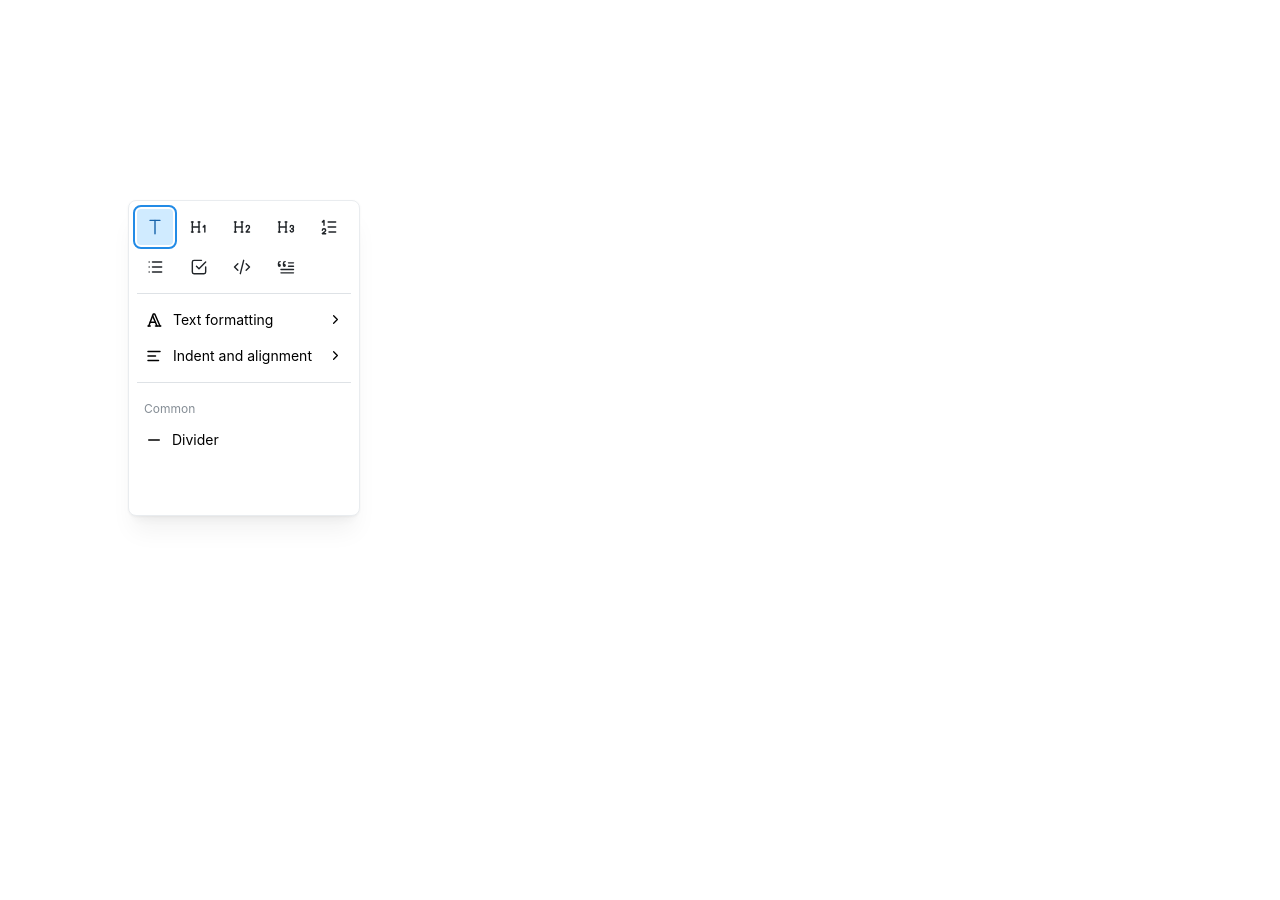
Test: paragraph menu lifecycle › keeps font and spacing controls behind a compact secondary panel
This screenshot has width=1280, height=900.
Expected: the dropdown labelled "Font size" is not shown
Click the button "Text formatting" at (244, 320), box [137,302,351,338]
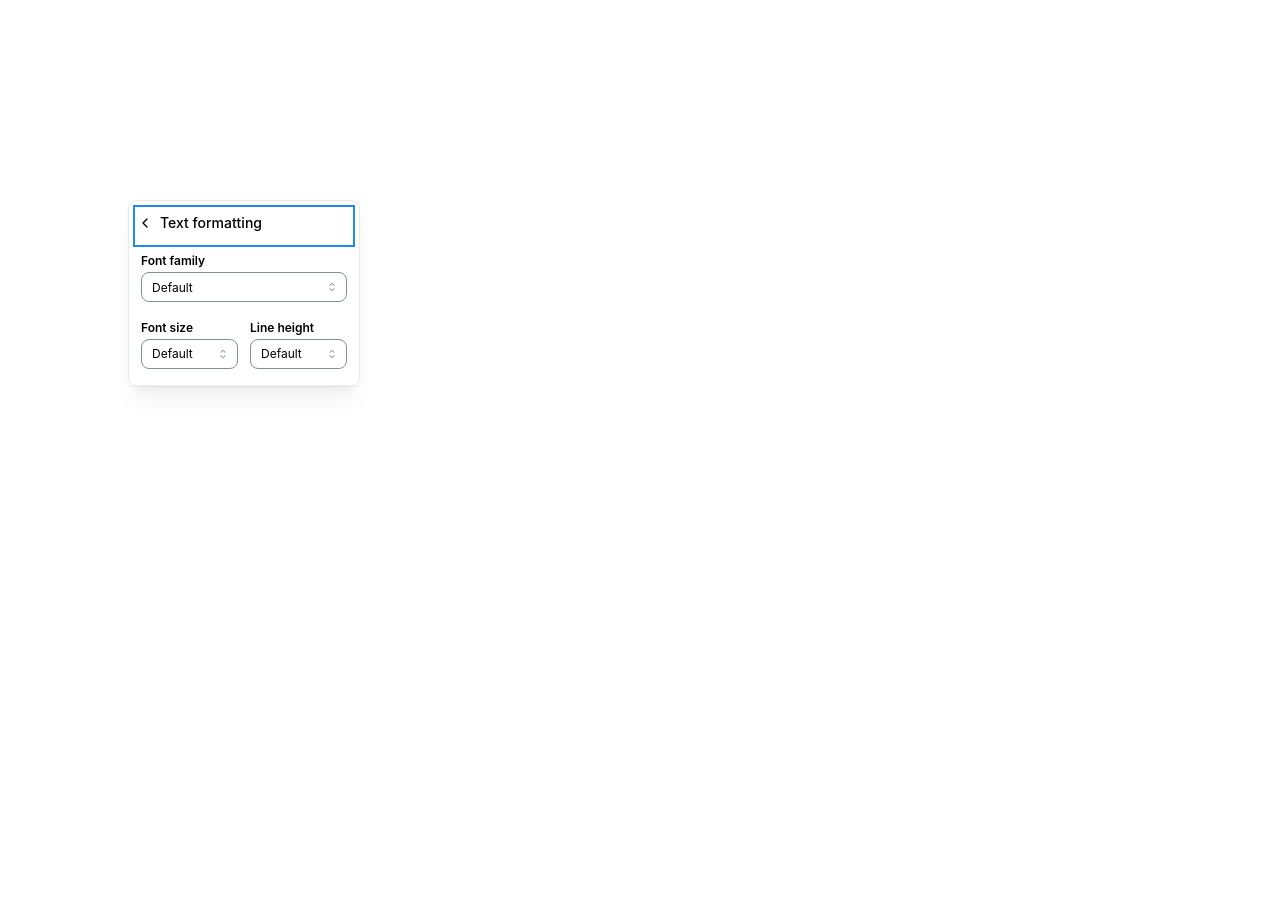
Expected: the dropdown labelled "Font size" is shown, [141,339,238,369]
Expected: the dropdown labelled "Line height" is shown, [250,339,347,369]
Click the button with aria-label "Back" at (244, 226), box [137,209,351,243]
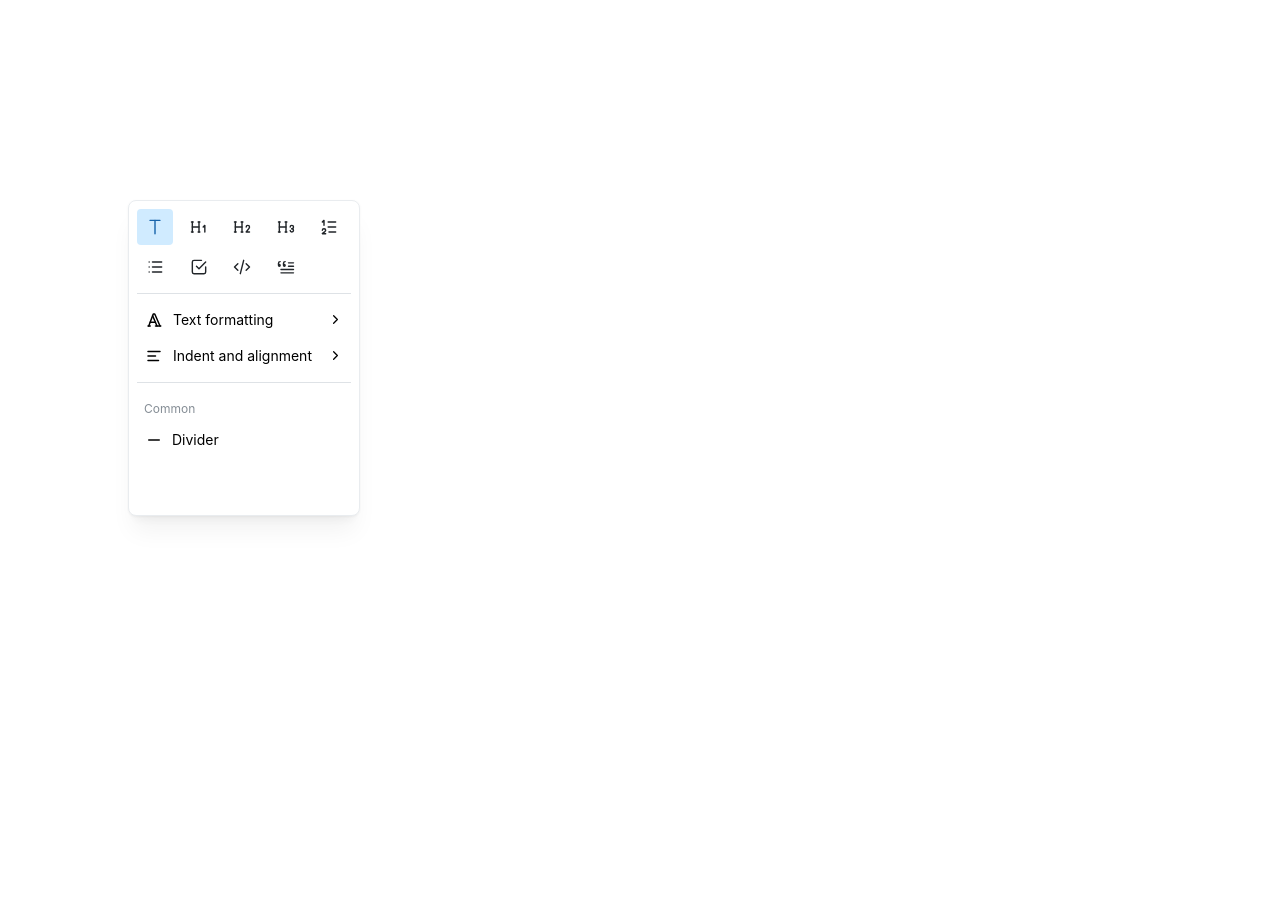
Expected: the label "Font size" is gone
Expected: the button named "Heading 1" is shown, [181,209,217,245]
